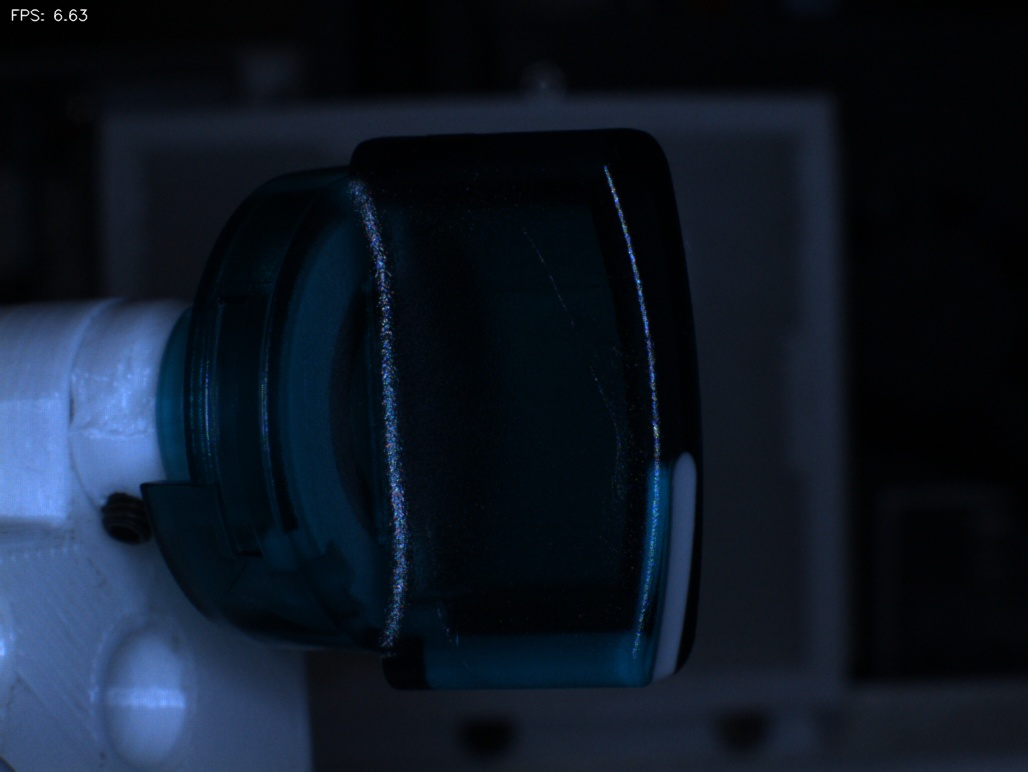Givrage: (506, 216, 594, 341), (575, 366, 642, 512)
